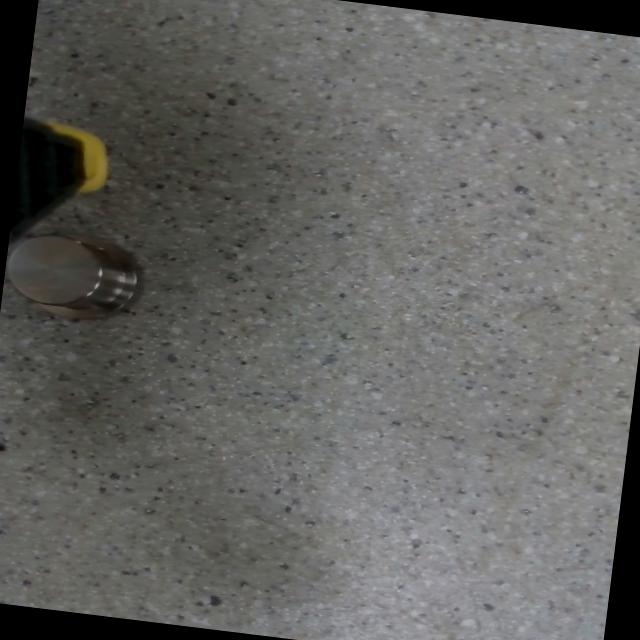sensor: (0, 224, 148, 326)
